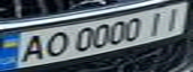0: (121, 15, 151, 42), (90, 21, 115, 50), (72, 25, 96, 53), (109, 18, 130, 45)
A: (9, 33, 51, 63)
I: (157, 3, 190, 33), (142, 8, 172, 36)
O: (36, 29, 72, 58)
